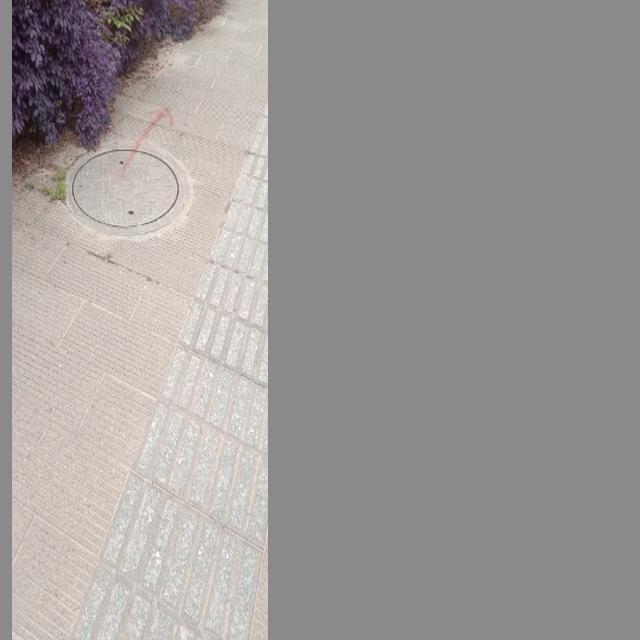good: (67, 140, 190, 230)
